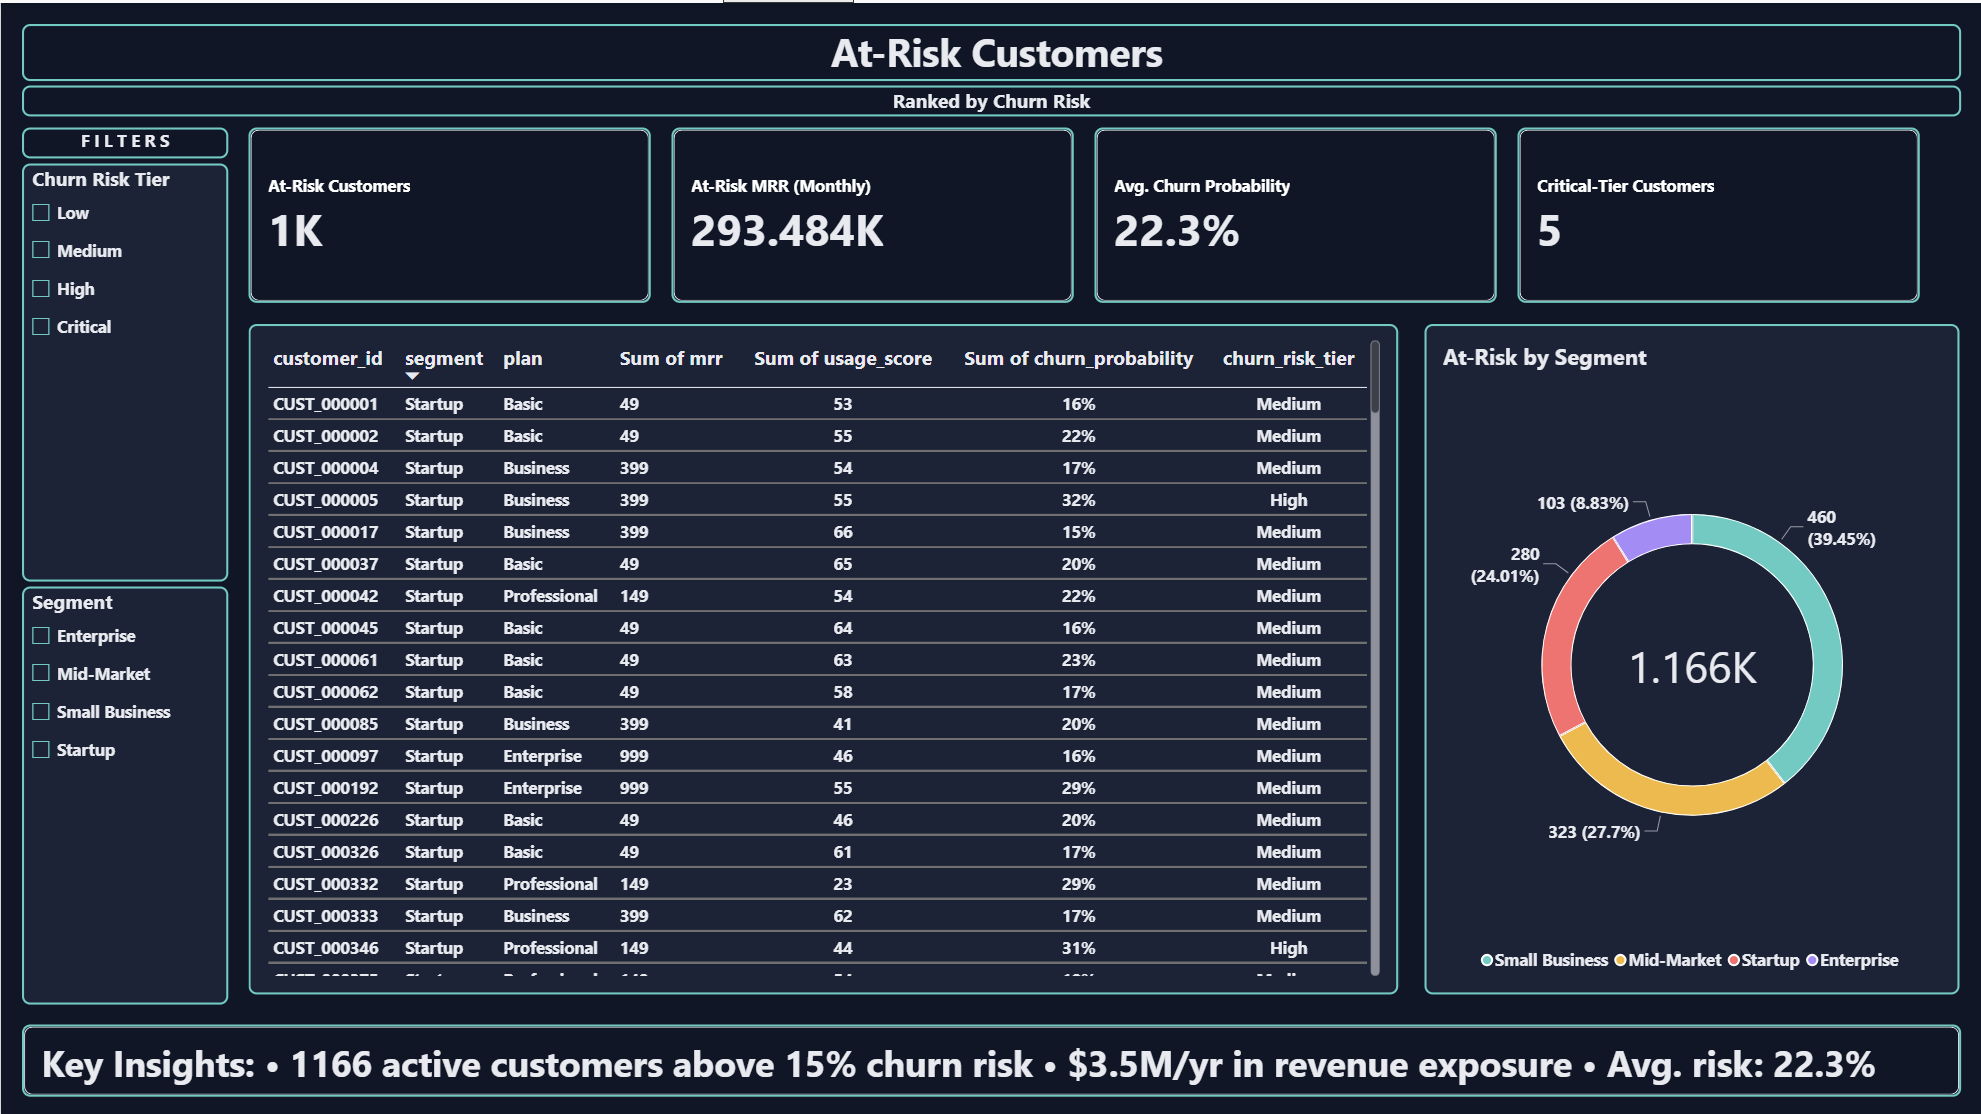

This screenshot's page, from the dashboard's own definition file:
{"tool":"powerbi","page":{"name":"At Risk Customers","canvas":[1920,1080],"ordinal":2},"visuals":[{"type":"tableEx","fields":{"Values":["customers_for_powerbi.customer_id","customers_for_powerbi.segment","customers_for_powerbi.plan","Sum(customers_for_powerbi.mrr)","Sum(customers_for_powerbi.usage_score)","Sum(customers_for_powerbi.churn_probability)","customers_for_powerbi.churn_risk_tier"]},"box":[240.3,310.7,1114.8,650.3],"z":0},{"type":"textbox","box":[20,20,1880,55],"z":1000},{"type":"slicer","fields":{"Values":["customers_for_powerbi.churn_risk_tier"]},"box":[20,155,200,405],"z":2000},{"type":"cardVisual","fields":{"Data":["customers_for_powerbi.AtRiskCustomerCount"]},"box":[240,120,390,170],"z":3000},{"type":"cardVisual","fields":{"Data":["customers_for_powerbi.At Risk MRR"]},"box":[650,120,390,170],"z":4000},{"type":"cardVisual","fields":{"Data":["customers_for_powerbi.AtRiskAvgProbability"]},"box":[1060,120,390,170],"z":5000},{"type":"textbox","box":[20,80,1880,30],"z":6000},{"type":"textbox","box":[20,120,200,30],"z":7000},{"type":"slicer","fields":{"Values":["customers_for_powerbi.segment"]},"box":[20,565.5,200,405],"z":8000},{"type":"cardVisual","fields":{"Data":["customers_for_powerbi.CriticalCustomerCount"]},"box":[1470,120,390,170],"z":9000},{"type":"donutChart","title":"At-Risk by Segment","fields":{"Category":["customers_for_powerbi.segment"],"Y":["CountNonNull(customers_for_powerbi.customer_id)"]},"box":[1380.7,310.7,519,650.3],"z":10000},{"type":"cardVisual","fields":{"Data":["customers_for_powerbi.KeyInsightsAtRiskText"]},"box":[20,990,1880,70],"z":11000}]}

Visuals, with their boxes in screenshot pixels (x1, y1, x2, y2), scaled from the page's 1920x1080 canvas onto the 1981x1114 screenshot:
tableEx - customers_for_powerbi.customer_id x customers_for_powerbi.segment: [left=248, top=320, right=1398, bottom=991]
textbox: [left=21, top=21, right=1960, bottom=77]
slicer - customers_for_powerbi.churn_risk_tier: [left=21, top=160, right=227, bottom=578]
cardVisual - customers_for_powerbi.AtRiskCustomerCount: [left=248, top=124, right=650, bottom=299]
cardVisual - customers_for_powerbi.At Risk MRR: [left=671, top=124, right=1073, bottom=299]
cardVisual - customers_for_powerbi.AtRiskAvgProbability: [left=1094, top=124, right=1496, bottom=299]
textbox: [left=21, top=83, right=1960, bottom=113]
textbox: [left=21, top=124, right=227, bottom=155]
slicer - customers_for_powerbi.segment: [left=21, top=583, right=227, bottom=1001]
cardVisual - customers_for_powerbi.CriticalCustomerCount: [left=1517, top=124, right=1919, bottom=299]
"At-Risk by Segment" donutChart: [left=1425, top=320, right=1960, bottom=991]
cardVisual - customers_for_powerbi.KeyInsightsAtRiskText: [left=21, top=1021, right=1960, bottom=1093]
